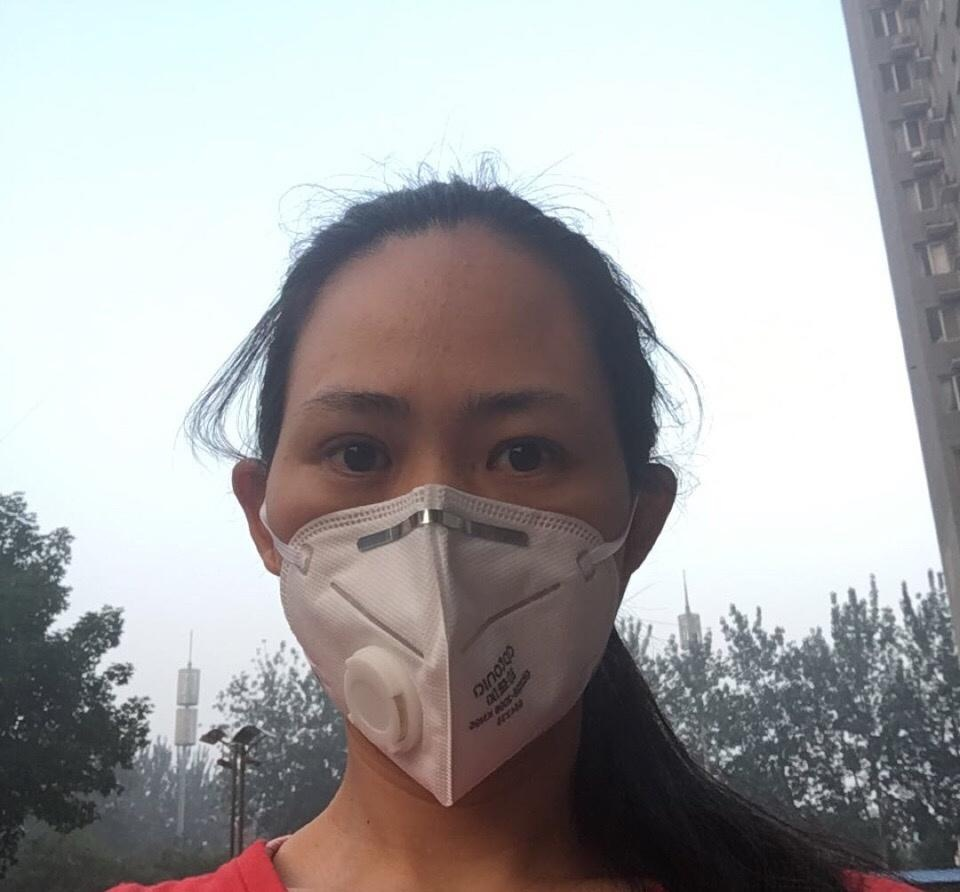Mask: (234, 372, 641, 779)
